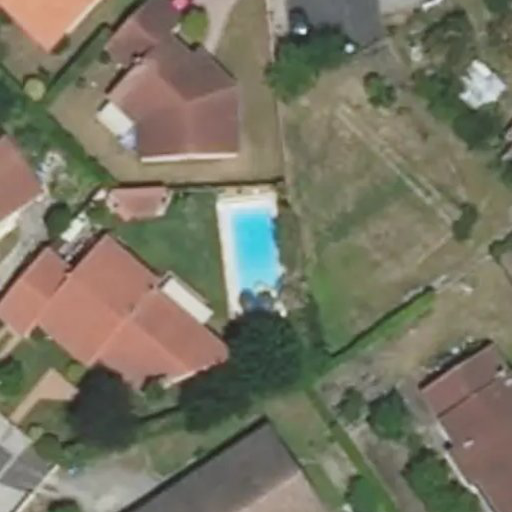pool: (230, 202, 281, 281)
